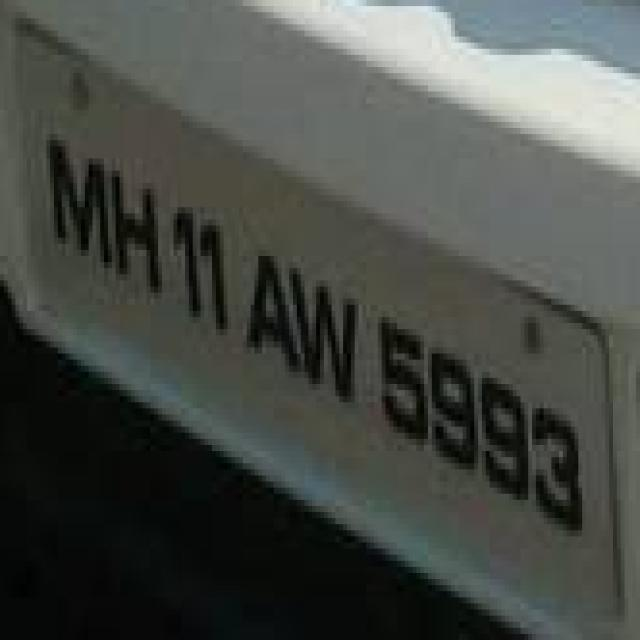license_plate: (0, 67, 613, 579)
